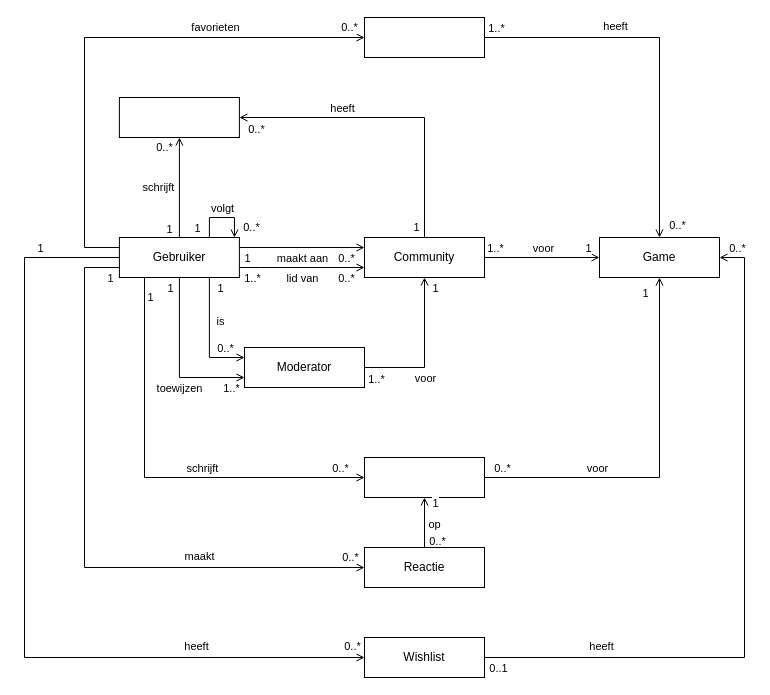
Image size: 770x695. Some labels were removed from this diagram. Each missing label, with the box of its shape:
Bericht: (118, 96, 239, 138)
Platform: (364, 16, 484, 58)
Review: (364, 456, 484, 498)
